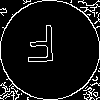F: (25, 25, 57, 72)
